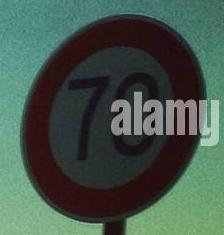Speed Limit -70-: (0, 1, 223, 234)
